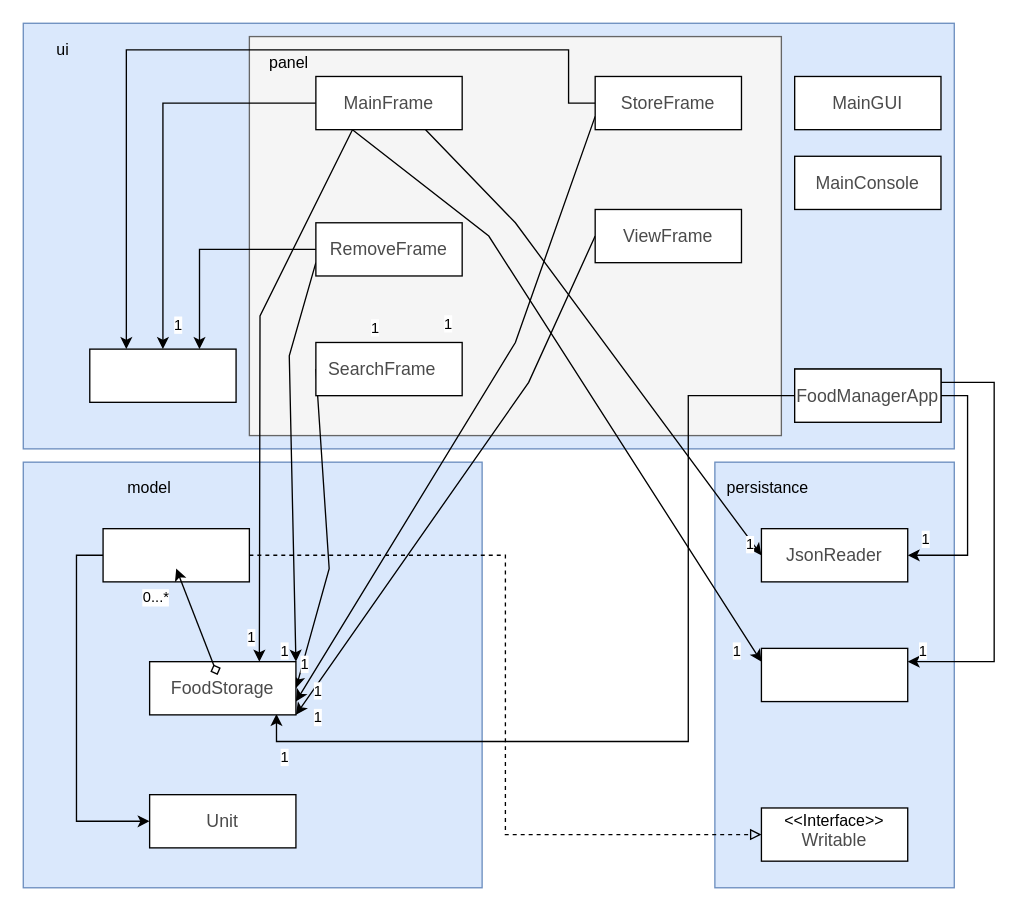
Image size: 1028x911. Some labels were removed from this diagram. The shapes that lost their labels are listed below. From the top down, each one's centre as x and y in pixels, then its label:
At [162,375]: "SounEffect".
At [175,554]: "Food".
At [834,674]: "JsonWriter".
